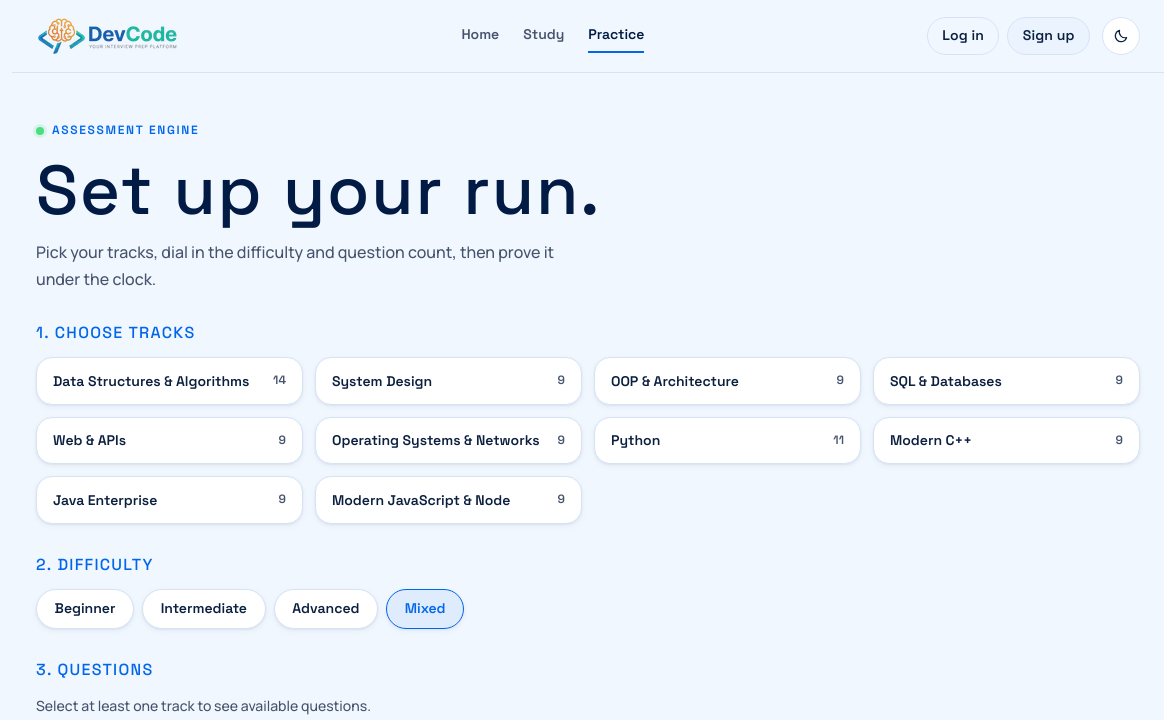
practice navigation guard lifecycle › does not guard navigation from the setup screen
The image size is (1164, 720).
Expected: the heading "Set up your run." is shown, [36, 146, 601, 234]
What coordinates should you click on to do the following:
click the link "Study"
I would click on:
 (544, 34)
Its box is [523, 26, 564, 44].
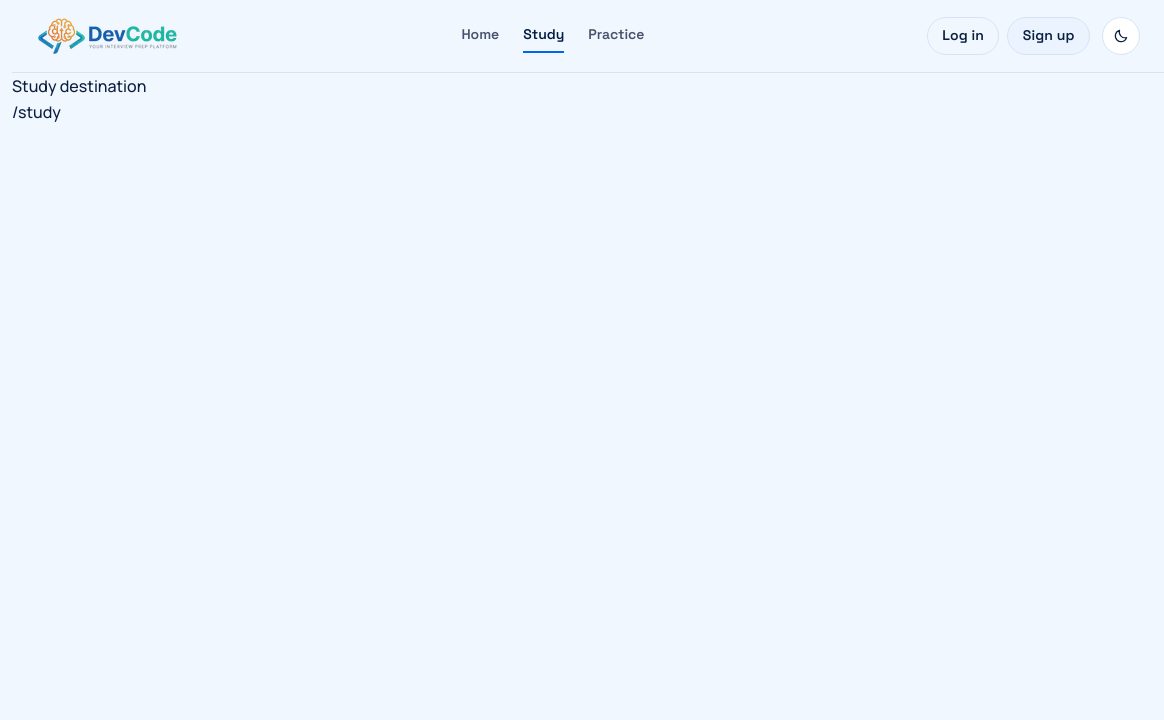
Result: the text with test id "location" reads "/study" at [12, 101, 61, 123]
